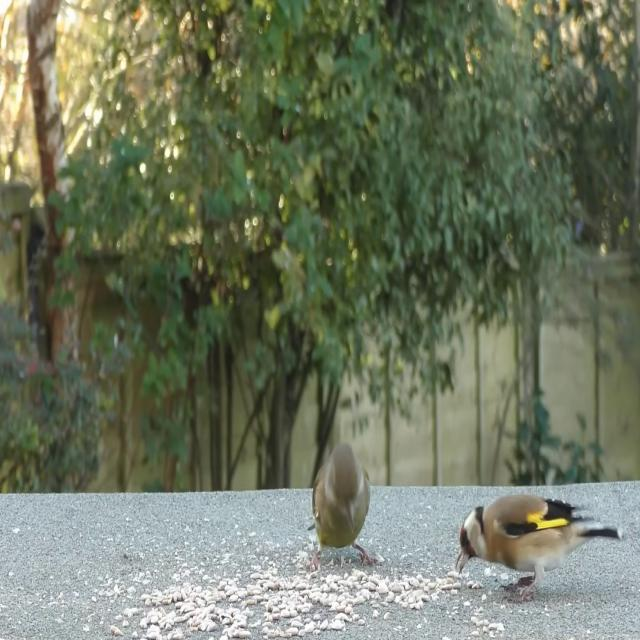beak: (452, 537, 469, 572), (340, 500, 357, 534)
bird: (452, 486, 626, 597), (310, 439, 374, 570)
